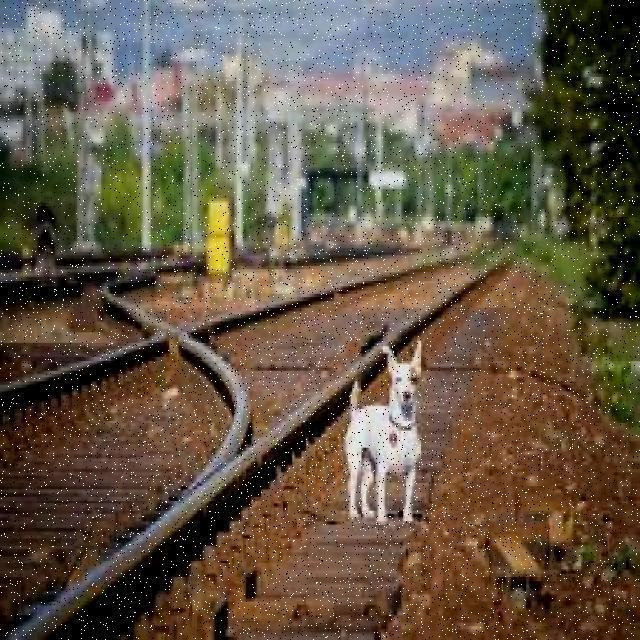danger: (342, 338, 426, 528)
rail: (1, 236, 536, 638)
